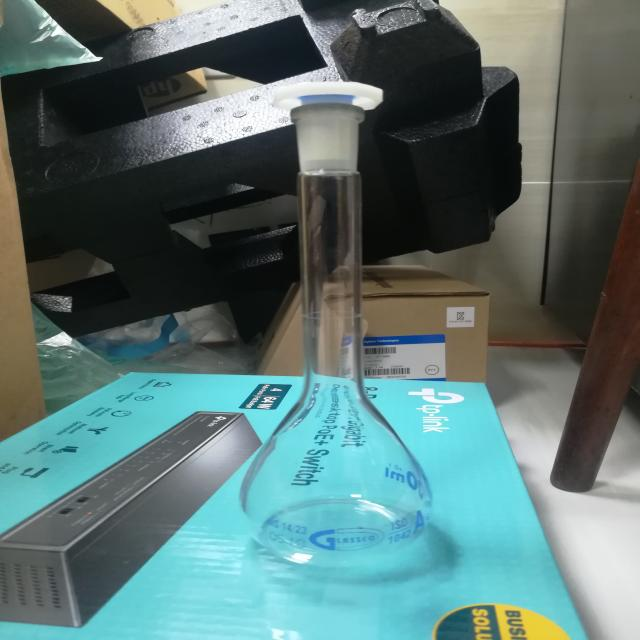Volumetric_Flask: (215, 50, 461, 600)
